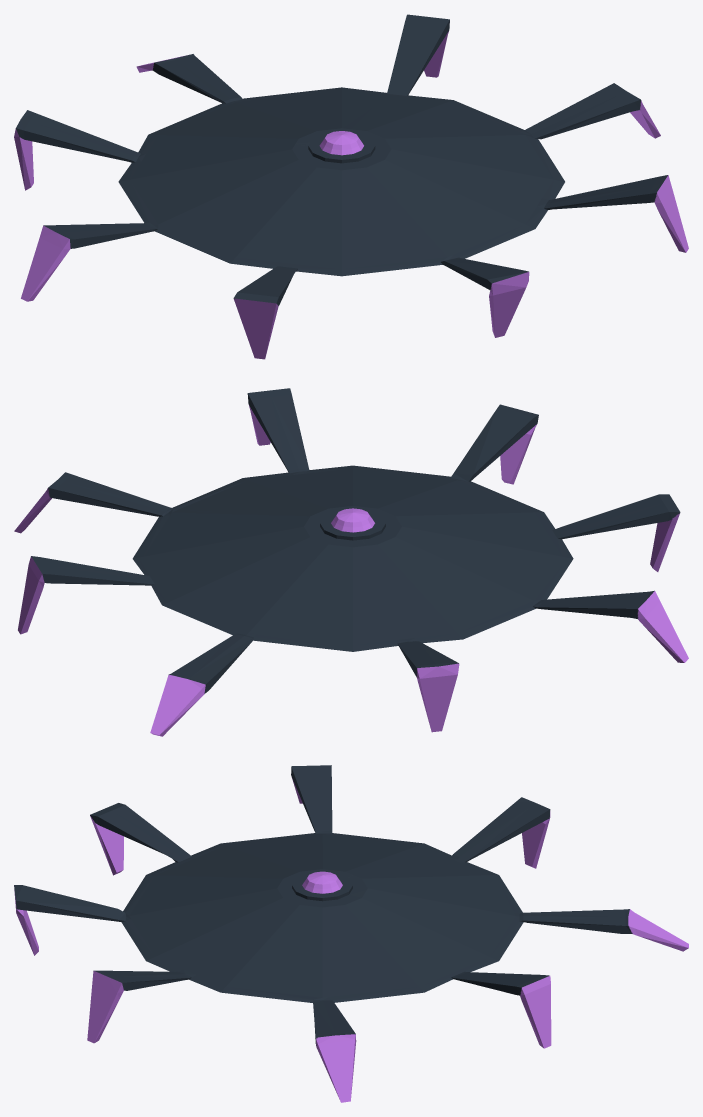
The model's file is Spider_Walk_000014.obj.
The picture shows the model from 3 angles, top to bottom: view 1: azimuth 30°, elevation 25°; view 2: azimuth 150°, elevation 25°; view 3: azimuth 270°, elevation 25°; orthographic projection. The views are drawn at different scales.
Parts seen in each view (by area): view 1: Circle_Circle.001; view 2: Circle_Circle.001; view 3: Circle_Circle.001.
Part boxes in pixels (box(x1,y1,x2,y2)): Circle_Circle.001: box(14, 14, 688, 359); Circle_Circle.001: box(14, 388, 688, 736); Circle_Circle.001: box(14, 765, 688, 1102).
Size of the model in its own units: 3.4 by 0.4623 by 3.31.
